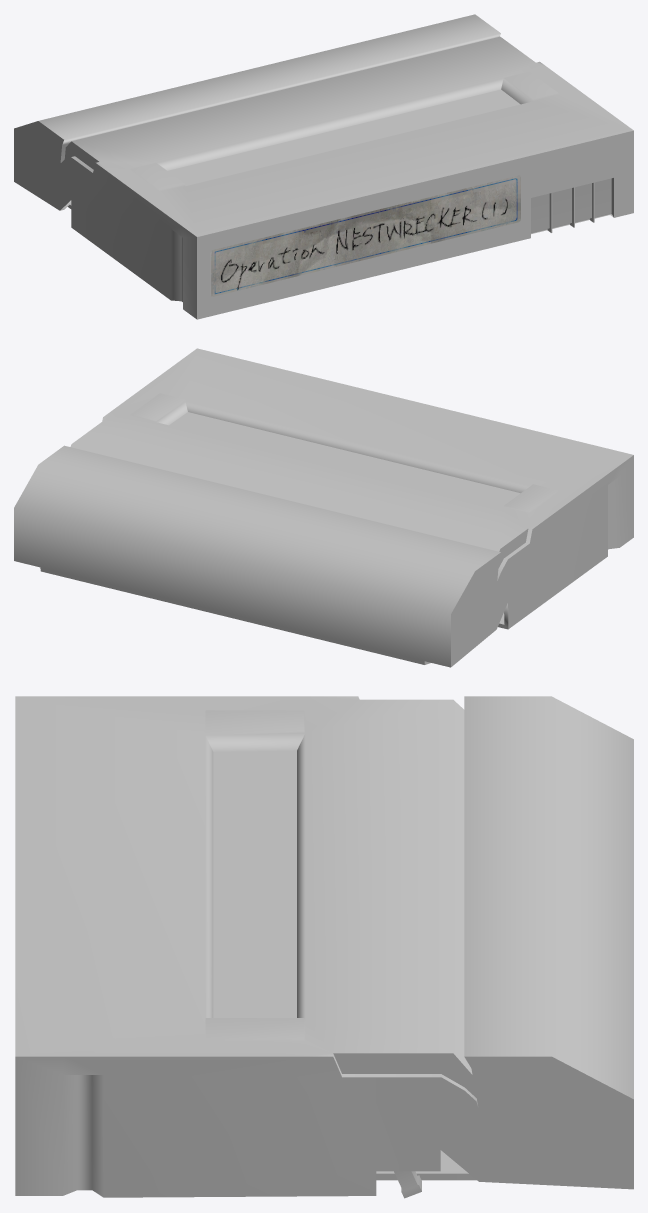
The model's file is VideoTape2.fbx.
3 views of the same model, one above another, from view 1: azimuth 30°, elevation 25°; view 2: azimuth 150°, elevation 25°; view 3: azimuth 270°, elevation 25° (orthographic). The views are drawn at different scales.
Visible parts, largest first — view 1: LOD_1_Group_1_Sub_1__sm73_405_VideoTape01A_A_Mat, LOD_1_Group_2_Sub_1__sm72_200_PhotoFilmA01A_A_Mat; view 2: LOD_1_Group_1_Sub_1__sm73_405_VideoTape01A_A_Mat; view 3: LOD_1_Group_1_Sub_1__sm73_405_VideoTape01A_A_Mat.
Boxes of the visible parts, x1=… form: LOD_1_Group_1_Sub_1__sm73_405_VideoTape01A_A_Mat: x1=14, y1=14, x2=633, y2=319; LOD_1_Group_2_Sub_1__sm72_200_PhotoFilmA01A_A_Mat: x1=210, y1=175, x2=520, y2=296; LOD_1_Group_1_Sub_1__sm73_405_VideoTape01A_A_Mat: x1=14, y1=348, x2=633, y2=667; LOD_1_Group_1_Sub_1__sm73_405_VideoTape01A_A_Mat: x1=15, y1=696, x2=633, y2=1198.
Size of the model in its own units: 0.0664 by 0.0125 by 0.0481.
